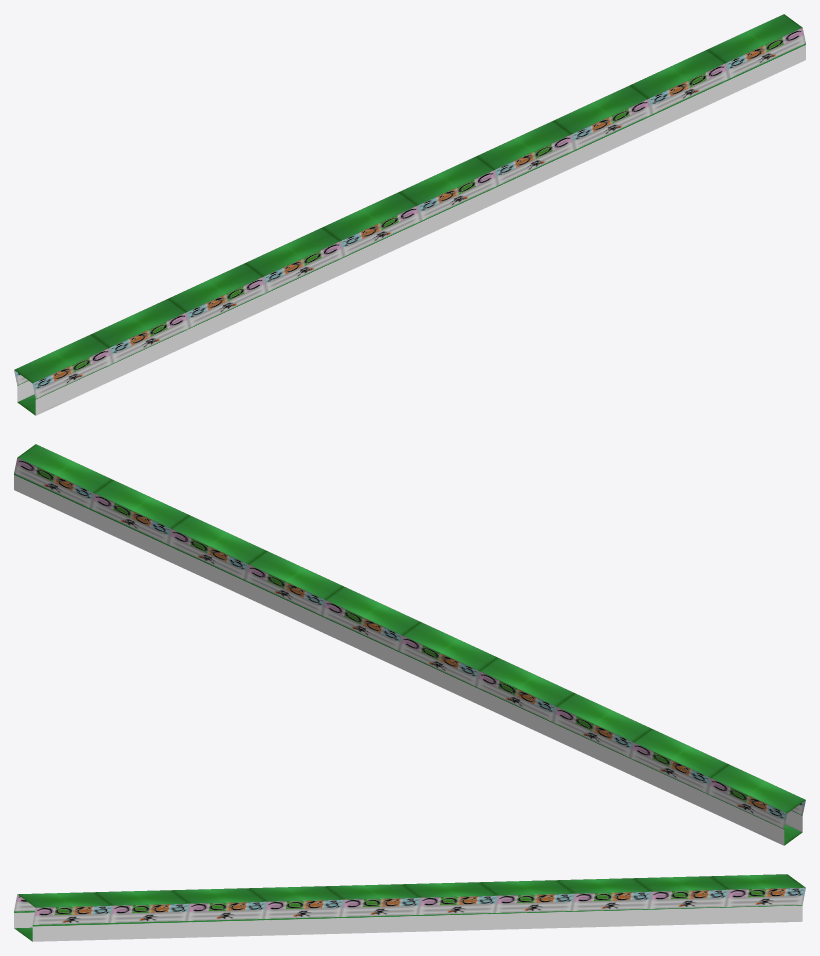
File: CourseSpring_Box_Wall_R_3.fbx
3 views of the same model, one above another, from view 1: azimuth 90°, elevation 25°; view 2: azimuth 210°, elevation 25°; view 3: azimuth 270°, elevation 25° (orthographic).
Parts seen in each view (by area): view 1: polySurface31; view 2: polySurface31; view 3: polySurface31.
Part boxes in pixels (left/top/right/bottom): polySurface31: left=14, top=14, right=805, bottom=415; polySurface31: left=14, top=444, right=805, bottom=845; polySurface31: left=14, top=874, right=805, bottom=941.
Bounding box in the file's own units: 25.83 × 11.98 × 42.75.
Materials: 1 (1 with a texture image).
